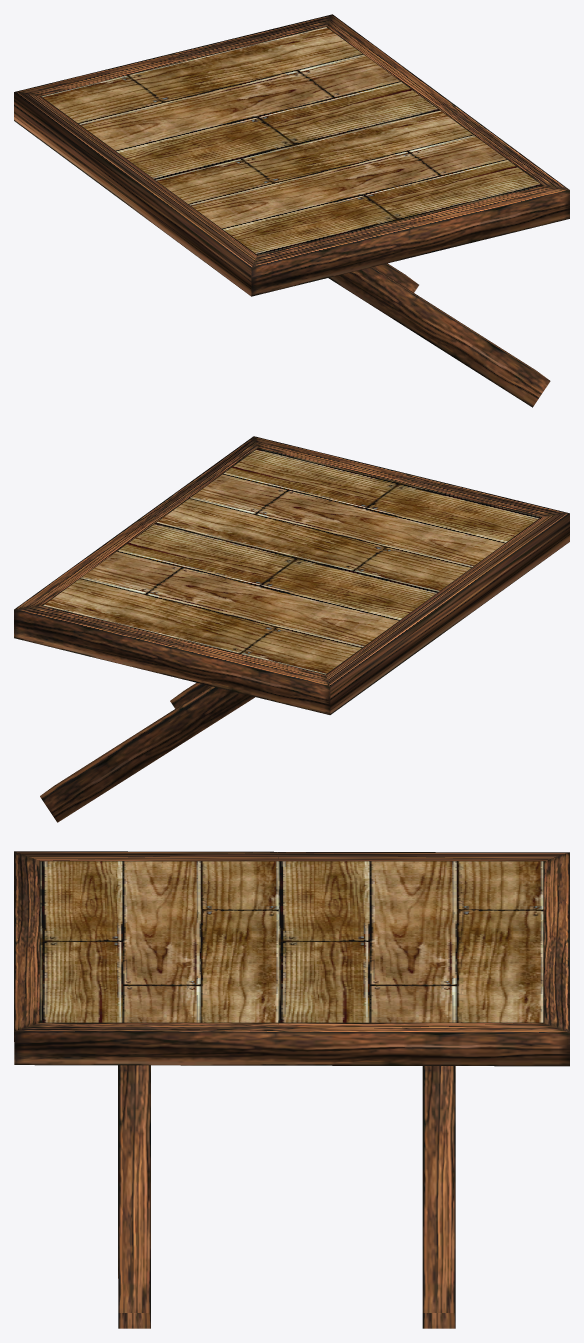
Rendered from LAKETOWN_WAREHOUSE3_PS_WH3_PLARFORM84847__GX.fbx.
3 views of the same model, one above another, from view 1: azimuth 30°, elevation 25°; view 2: azimuth 150°, elevation 25°; view 3: azimuth 270°, elevation 25° (orthographic). The views are drawn at different scales.
Parts seen in each view (by area): view 1: LAKETOWN_WAREHOUSE3_PS_WH3_PLARFORM84847__GX; view 2: LAKETOWN_WAREHOUSE3_PS_WH3_PLARFORM84847__GX; view 3: LAKETOWN_WAREHOUSE3_PS_WH3_PLARFORM84847__GX.
Boxes of the visible parts, left/top/right/bottom form: LAKETOWN_WAREHOUSE3_PS_WH3_PLARFORM84847__GX: left=14, top=14, right=569, bottom=407; LAKETOWN_WAREHOUSE3_PS_WH3_PLARFORM84847__GX: left=14, top=436, right=569, bottom=822; LAKETOWN_WAREHOUSE3_PS_WH3_PLARFORM84847__GX: left=14, top=851, right=569, bottom=1328.
Size of the model in its own units: 24473 by 17146 by 29507.
Materials: 2 (2 with a texture image).
